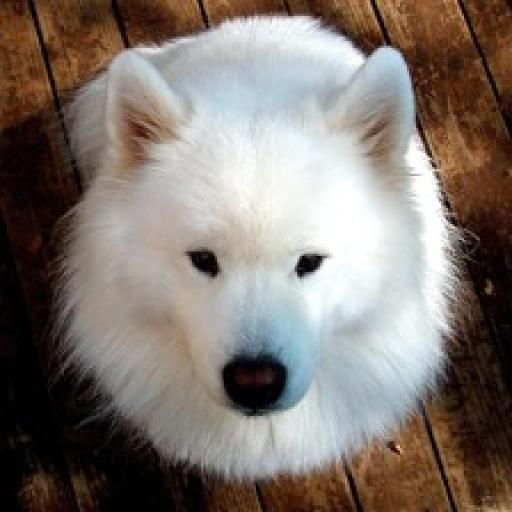dog: (48, 10, 490, 496)
